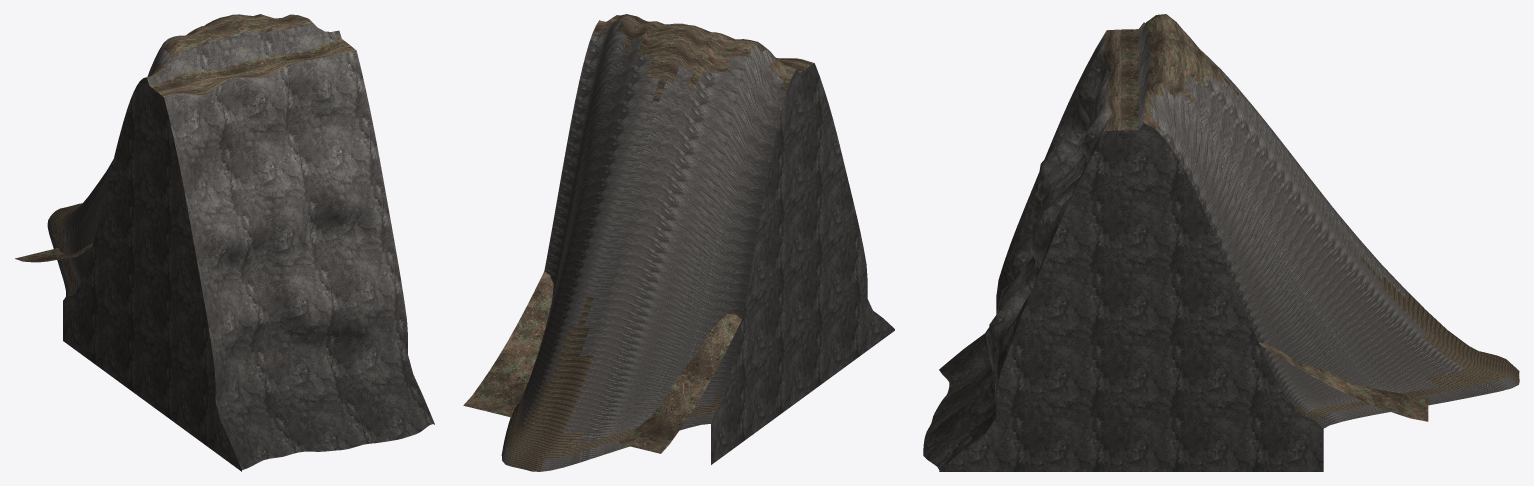
Rendered from seacliff_straight6b_h8_v5_autumn.glb.
3 views of the same model, side by side, from view 1: azimuth 30°, elevation 25°; view 2: azimuth 150°, elevation 25°; view 3: azimuth 270°, elevation 25° (orthographic). The views are drawn at different scales.
Parts seen in each view (by area): view 1: seacliff_straight6b_h8; view 2: seacliff_straight6b_h8; view 3: seacliff_straight6b_h8.
Boxes of the visible parts, x1,y1,x2,y2 form: seacliff_straight6b_h8: [15, 14, 434, 471]; seacliff_straight6b_h8: [463, 14, 894, 471]; seacliff_straight6b_h8: [923, 14, 1519, 471].
Size of the model in its own units: 6 by 10.47 by 14.99.
Materials: 2 (2 with a texture image).
